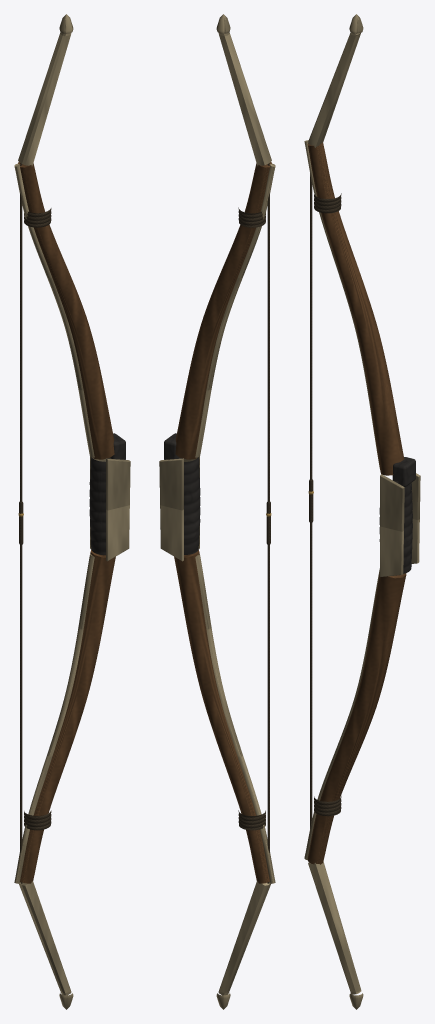
Rendered from composite-bow.glb.
3 views of the same model, side by side, from view 1: azimuth 30°, elevation 25°; view 2: azimuth 150°, elevation 25°; view 3: azimuth 330°, elevation 25° (orthographic).
Parts seen in each view (by area): view 1: wood / oiled hardwood, horn / polished horn and bone, cord / waxed silk cord wrap, leather / oiled leather wrap; view 2: wood / oiled hardwood, horn / polished horn and bone, cord / waxed silk cord wrap, leather / oiled leather wrap; view 3: wood / oiled hardwood, horn / polished horn and bone, cord / waxed silk cord wrap, leather / oiled leather wrap.
Boxes of the visible parts, x1,y1,x2,y2 form: wood / oiled hardwood: (18,162,115,883); horn / polished horn and bone: (14,14,130,1009); cord / waxed silk cord wrap: (19,163,51,883); leather / oiled leather wrap: (89,433,125,555); wood / oiled hardwood: (174,162,271,883); horn / polished horn and bone: (159,14,275,1009); cord / waxed silk cord wrap: (238,163,270,883); leather / oiled leather wrap: (164,433,200,554); wood / oiled hardwood: (307,142,406,864); horn / polished horn and bone: (304,14,420,1009); cord / waxed silk cord wrap: (309,173,341,828); leather / oiled leather wrap: (379,457,415,573).
Bounding box in the file's own units: 0.1563 × 1.39 × 0.045.
Materials: 5 (5 with a texture image).
